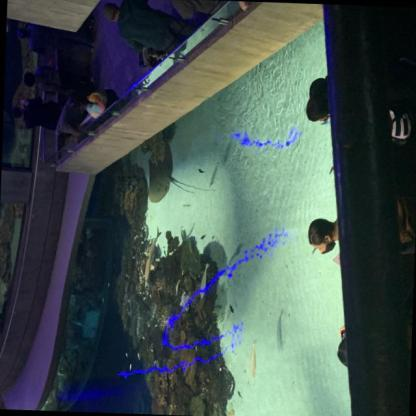fish: (198, 262, 210, 301), (248, 338, 258, 382), (276, 308, 284, 353), (209, 161, 219, 189), (212, 311, 226, 324), (174, 278, 180, 297), (187, 237, 193, 254), (227, 304, 235, 314), (236, 390, 244, 400), (197, 168, 206, 175), (128, 362, 133, 372), (200, 233, 207, 240), (101, 297, 104, 306), (141, 336, 146, 341), (138, 352, 140, 362), (150, 348, 154, 353), (126, 352, 128, 360), (107, 282, 109, 288)
shark: (142, 225, 162, 282)
stingray: (147, 140, 173, 204)
